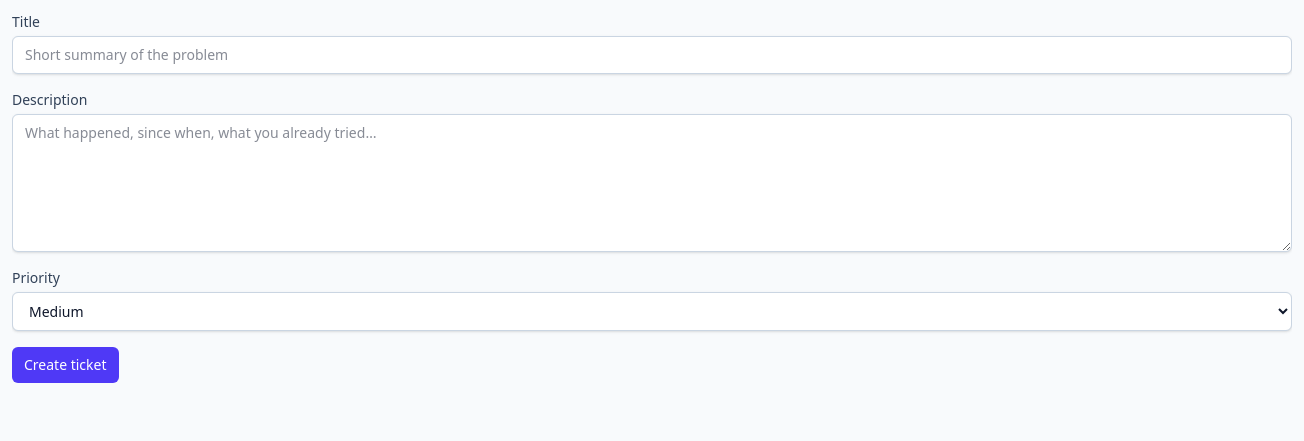
it: NewTicketForm › requires title and description
Click the button "Create ticket".
click(65, 365)  # box [12,347,118,383]
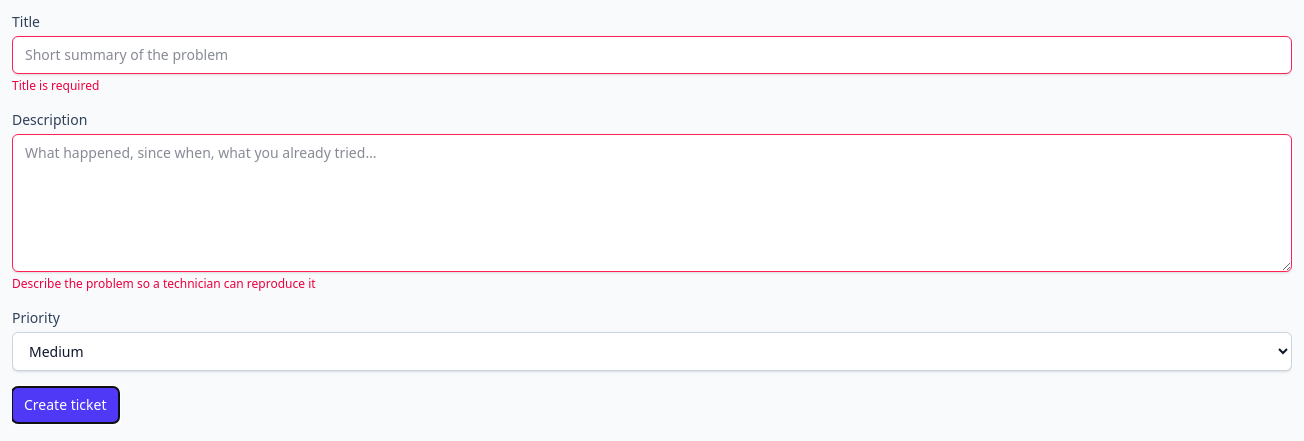
Expected: the text "Title is required" is shown, [12,77,99,94]
Expected: the text "Describe the problem so a technician can reproduce it" is shown, [12,275,316,292]
